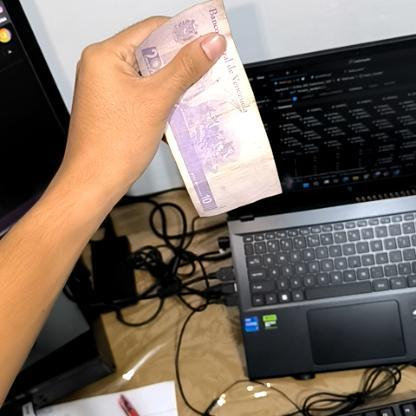ten-back-vef: (132, 0, 282, 218)
